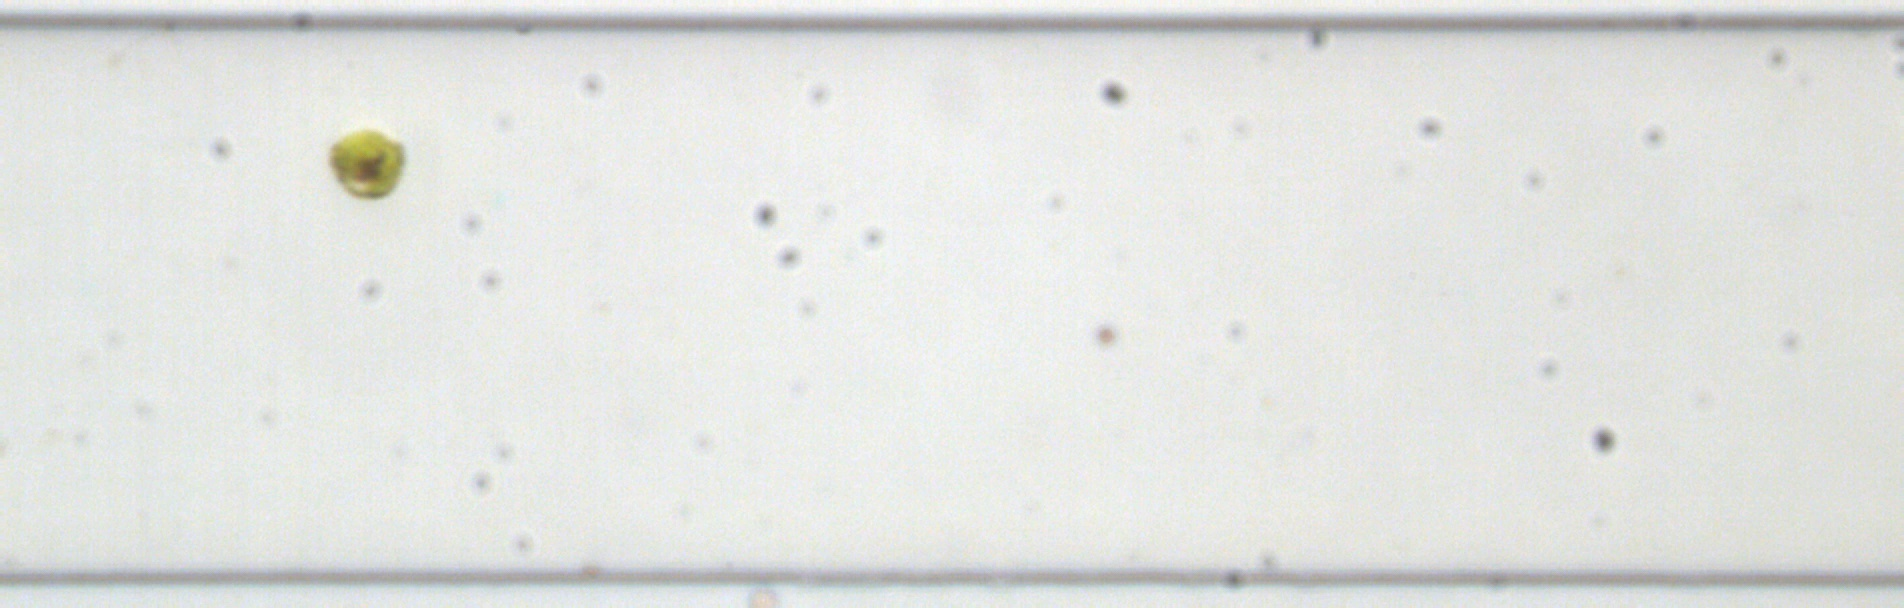Haematococcus: (324, 129, 410, 205)
Porphyridium: (1095, 325, 1120, 347)
